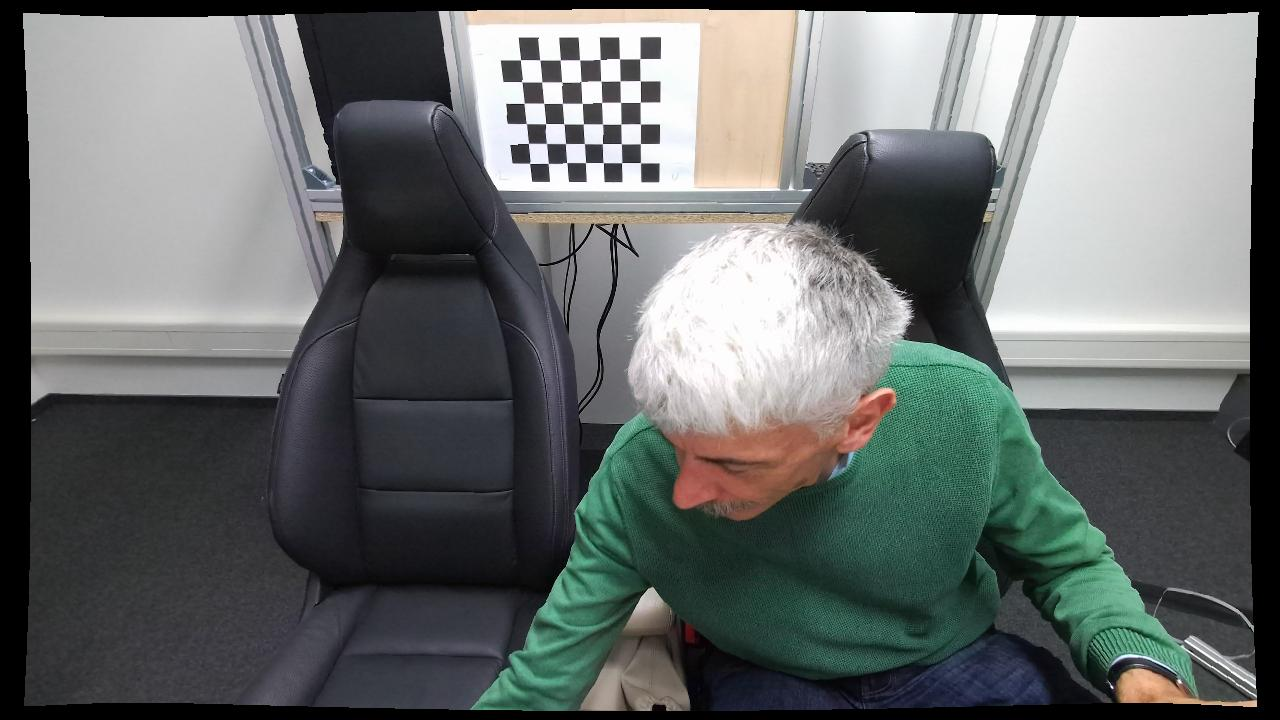Distracted: (467, 220, 1116, 710)
